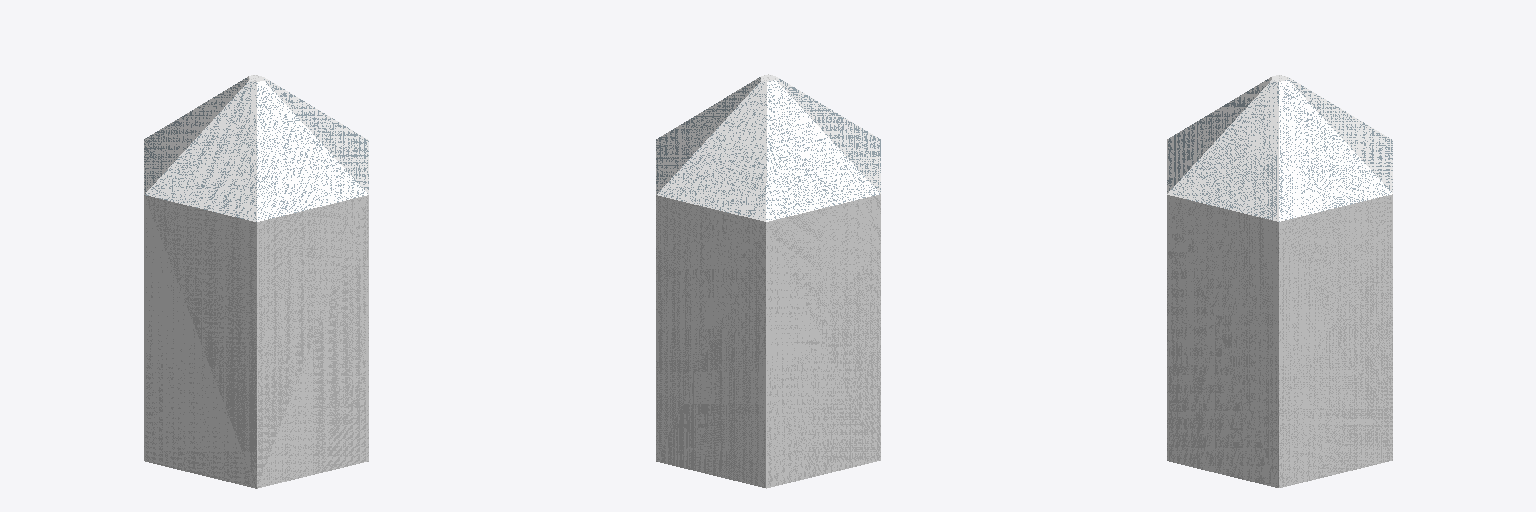
The model's file is MeasuringCylinder_Solid.obj.
3 renders of one model, left to right at view 1: azimuth 30°, elevation 25°; view 2: azimuth 150°, elevation 25°; view 3: azimuth 270°, elevation 25°, orthographic.
Parts seen in each view (by area): view 1: Mesh1 Model; view 2: Mesh1 Model; view 3: Mesh1 Model.
Part boxes in pixels (x1,y1,x2,y2): Mesh1 Model: (144,75,368,488); Mesh1 Model: (656,74,880,488); Mesh1 Model: (1167,75,1392,487).
Size of the model in its own units: 0.0262 by 0.0396 by 0.0229.